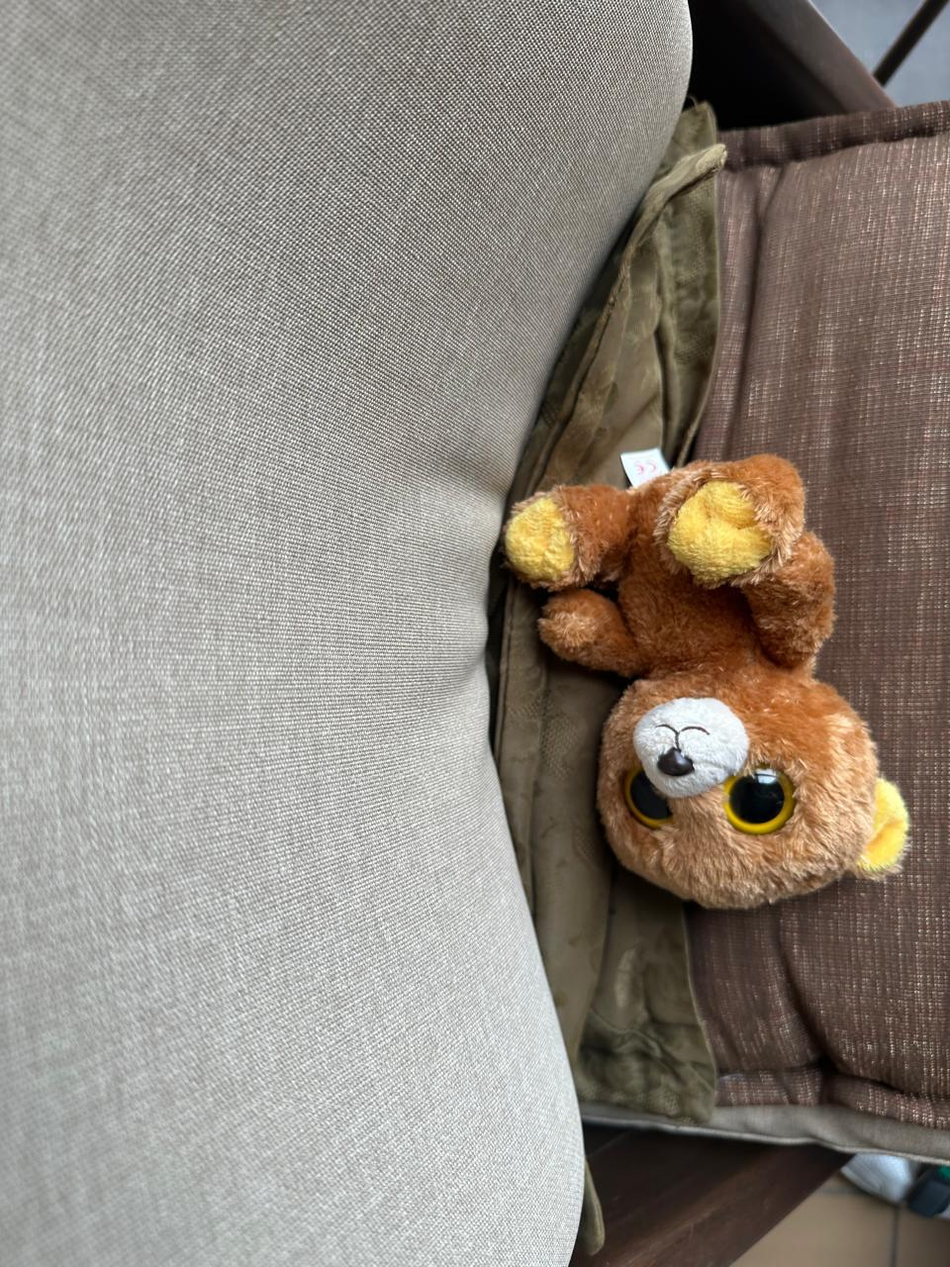peluche_sebastian: (505, 458, 923, 906)
